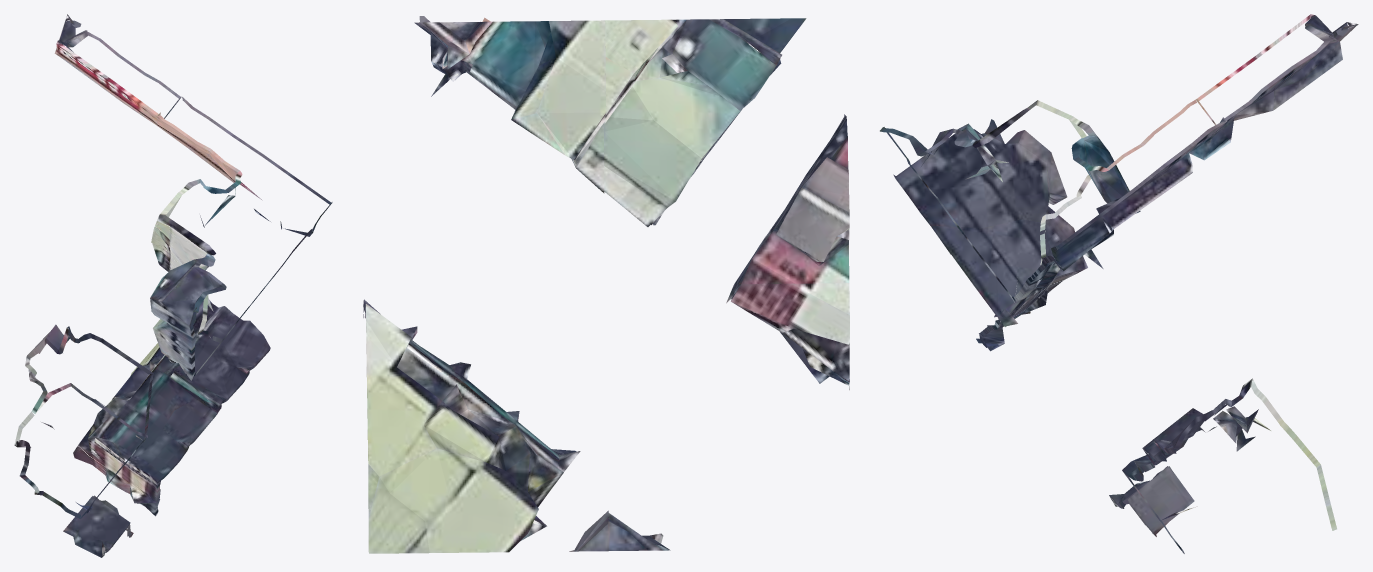
3 views of the same model, side by side, from view 1: azimuth 30°, elevation 25°; view 2: azimuth 150°, elevation 25°; view 3: azimuth 270°, elevation 25° (orthographic). The views are drawn at different scales.
Bounding box in the file's own units: 35.84 × 48.55 × 40.04.
1 material, 1 textured.
